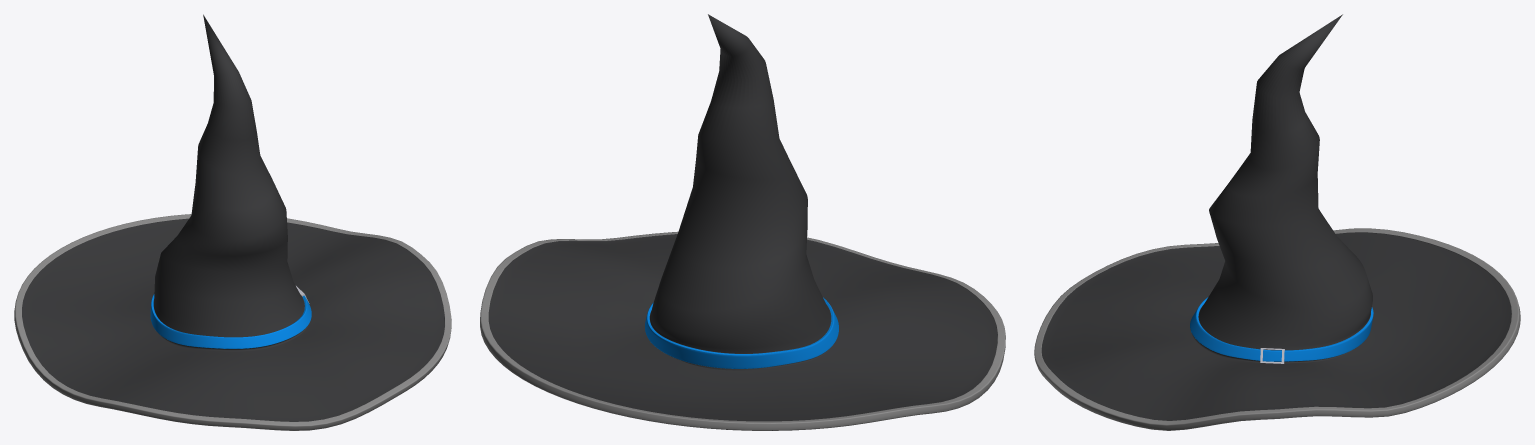
3 views of the same model, side by side, from view 1: azimuth 30°, elevation 25°; view 2: azimuth 150°, elevation 25°; view 3: azimuth 270°, elevation 25° (orthographic). The views are drawn at different scales.
Visible parts, largest first — view 1: witch_hat_m:pCone1; view 2: witch_hat_m:pCone1; view 3: witch_hat_m:pCone1.
Part boxes in pixels (x1,y1,x2,y2): witch_hat_m:pCone1: (14, 14, 451, 430); witch_hat_m:pCone1: (480, 14, 1005, 430); witch_hat_m:pCone1: (1034, 14, 1520, 430).
Bounding box in the file's own units: 5.78 × 4.52 × 5.77.
